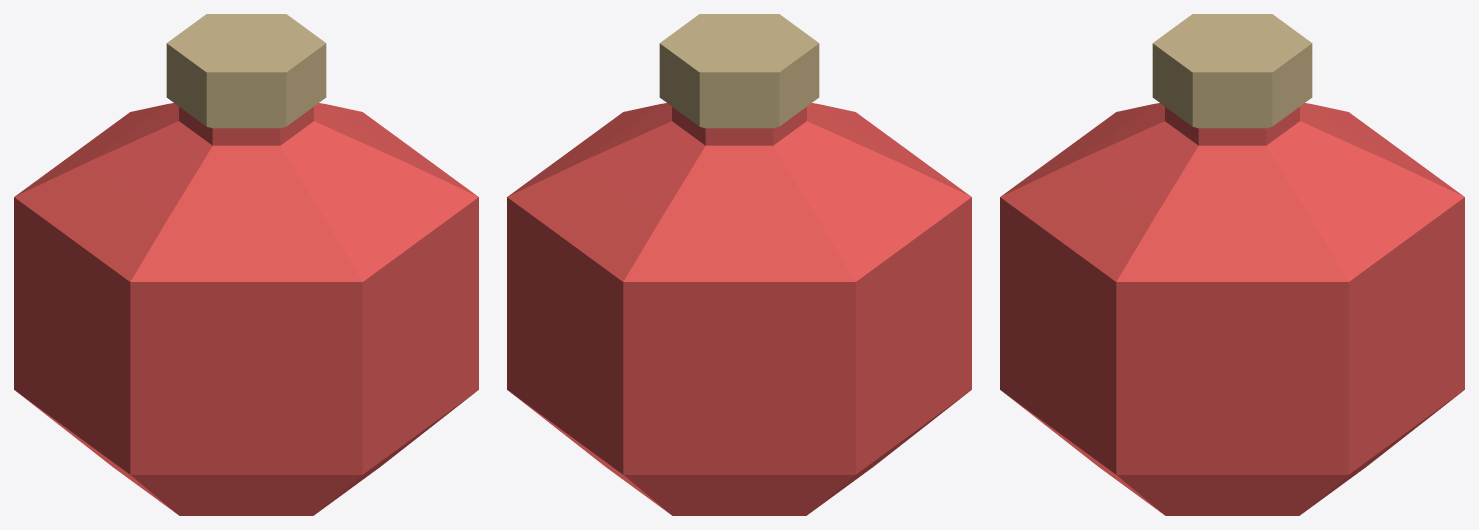
The model's file is ShortPotion_14.fbx.
The picture shows the model from 3 angles, left to right: view 1: azimuth 30°, elevation 25°; view 2: azimuth 150°, elevation 25°; view 3: azimuth 270°, elevation 25°; orthographic projection.
Visible parts, largest first — view 1: ShortPotion_14; view 2: ShortPotion_14; view 3: ShortPotion_14.
Boxes of the visible parts, bbox=[...] form: ShortPotion_14: bbox=[14, 14, 478, 515]; ShortPotion_14: bbox=[507, 14, 971, 515]; ShortPotion_14: bbox=[1000, 14, 1464, 515].
Size of the model in its own units: 11 by 12.77 by 12.7.
